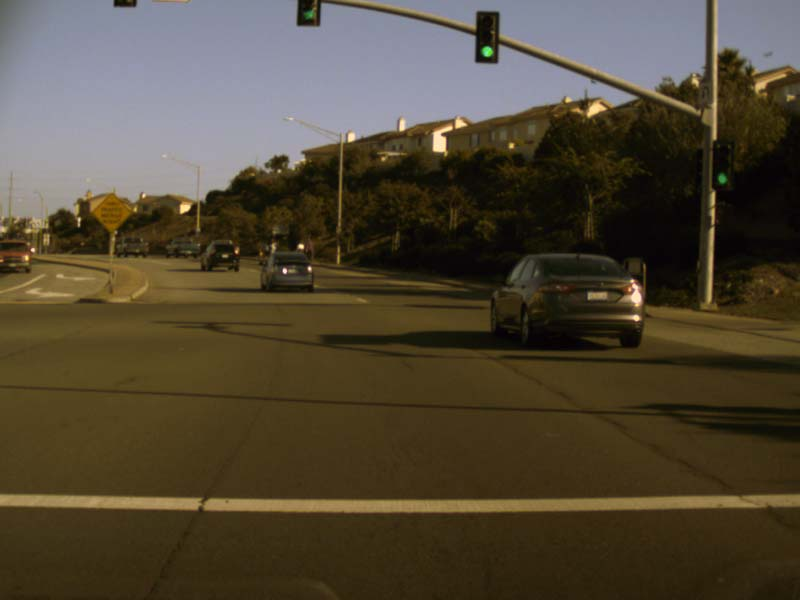Green: (476, 12, 496, 63), (712, 140, 731, 188)
